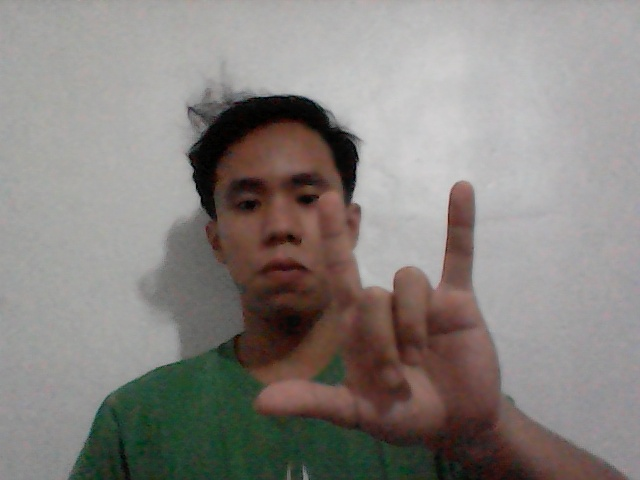I Love You: (252, 173, 535, 455)
